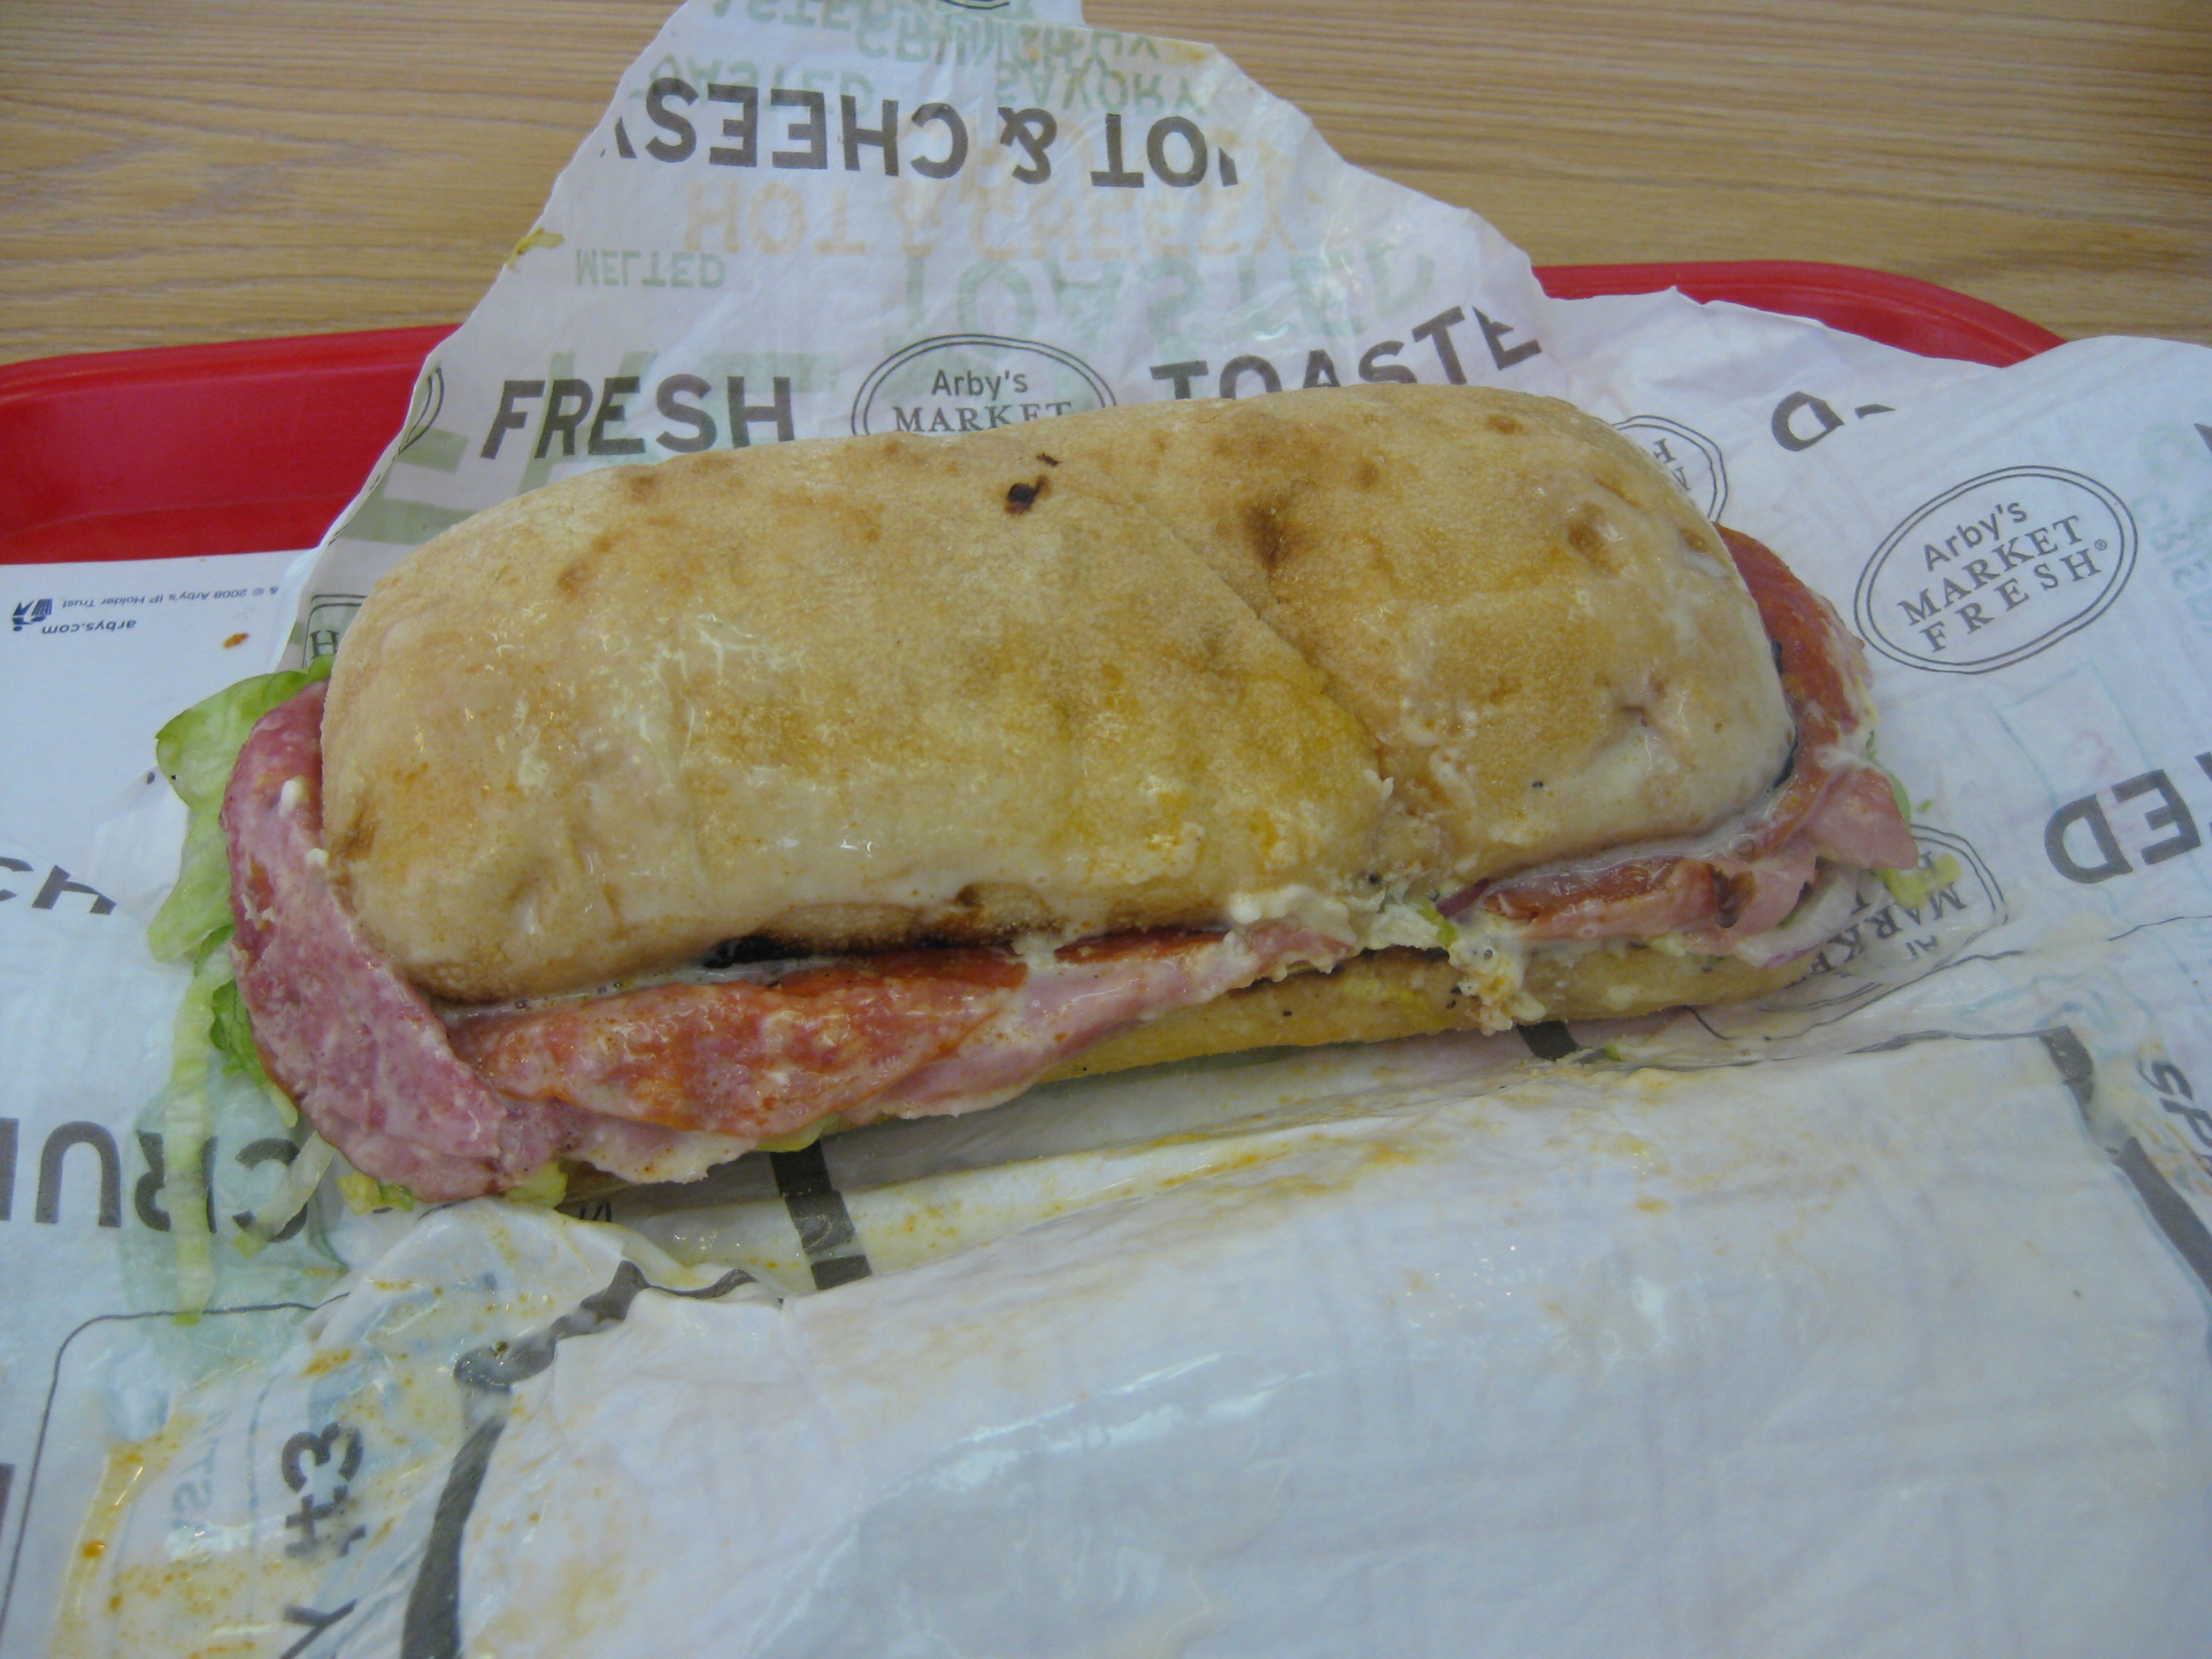sub: (207, 399, 2033, 1209)
